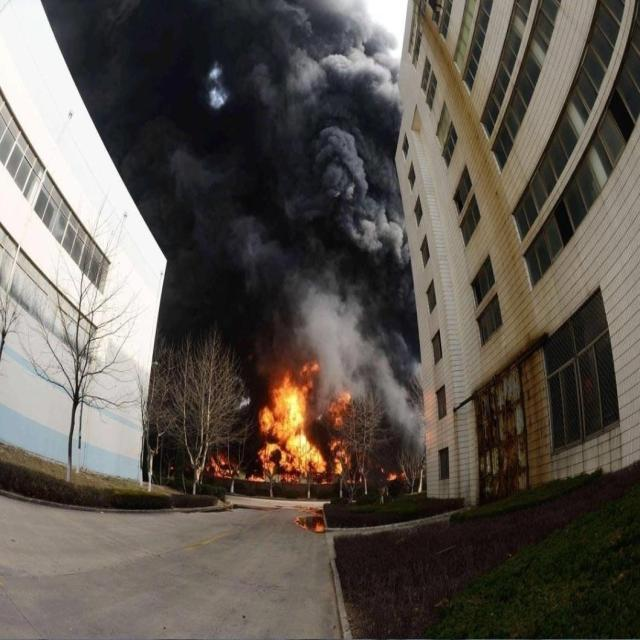Fire: (205, 359, 352, 486), (292, 506, 326, 534), (386, 470, 397, 480)
Smoke: (41, 1, 427, 477)
